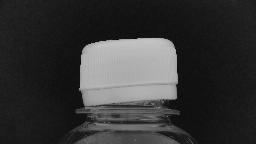Broken Cap: (68, 36, 186, 122)
